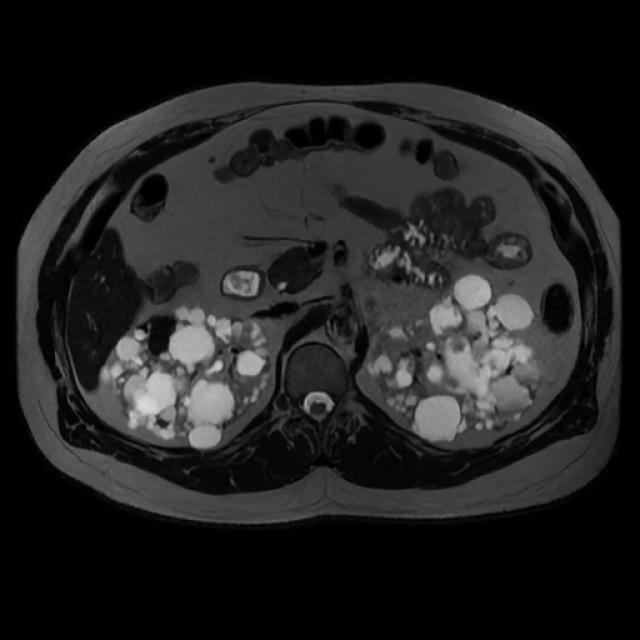sag: (100, 305, 272, 449)
sol: (368, 272, 544, 444)
